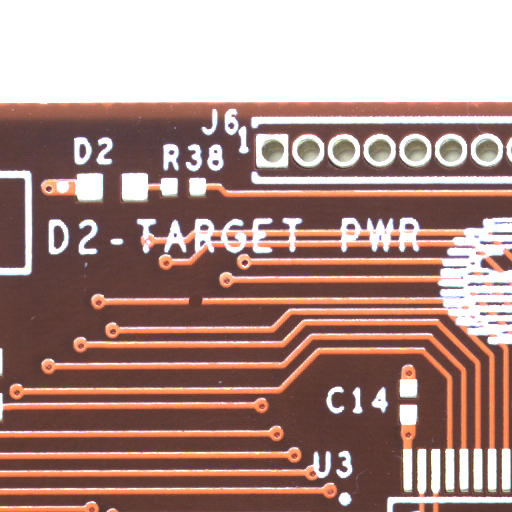Open_circuit: (195, 301, 208, 314)
